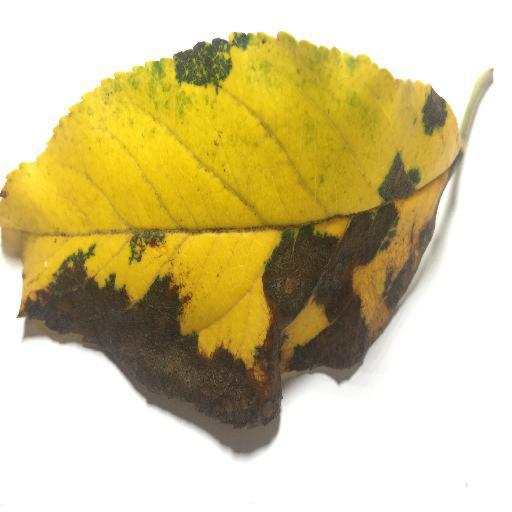Brown_Spot: (24, 232, 462, 430), (164, 41, 242, 86), (373, 154, 422, 196), (415, 87, 448, 132)
